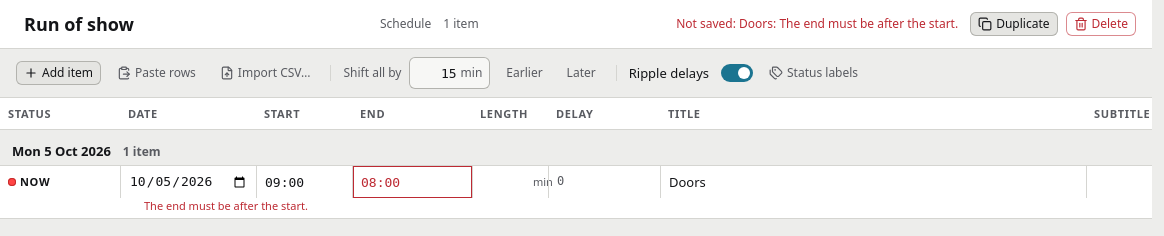
Test case: schedule editor › an end before the start (from disk) is marked and blocks saving
Expected: the text "The end must be after the start." is shown, [144, 198, 308, 213]
Replace the text in the field named "Title of the item at Mon 5 Oct 2026 09:00" with "Doors open". click: (874, 182)
box: [661, 166, 1086, 198]
Wait 1000 ms
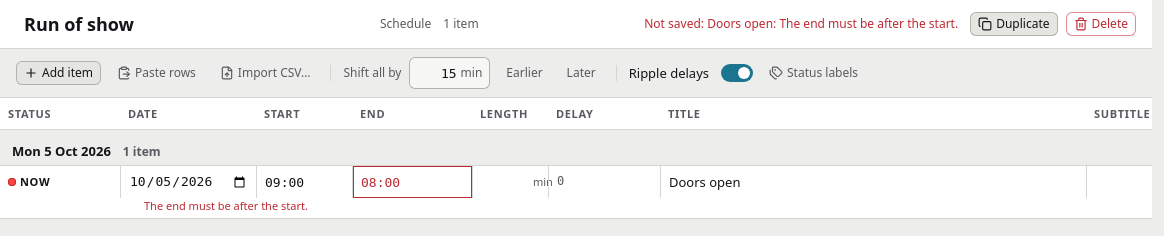
Expected: the message reads "Not saved: Doors open: The end must be after the start.", [644, 15, 958, 32]
